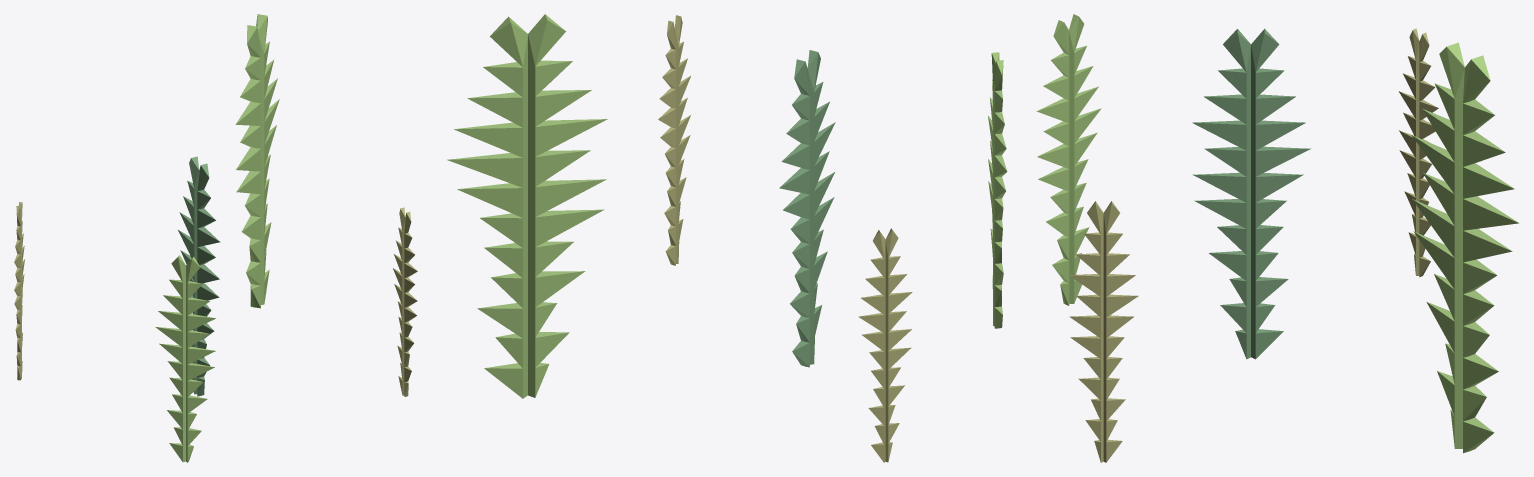
Rendered from SeaWeed.fbx.
3 views of the same model, side by side, from view 1: azimuth 30°, elevation 25°; view 2: azimuth 150°, elevation 25°; view 3: azimuth 270°, elevation 25° (orthographic). The views are drawn at different scales.
Visible parts, largest first — view 1: SeaWeed; view 2: SeaWeed; view 3: SeaWeed.
Boxes of the visible parts, x1,y1,x2,y2 form: SeaWeed: (14, 14, 417, 462); SeaWeed: (447, 14, 1007, 462); SeaWeed: (1036, 14, 1518, 462).
Size of the model in its own units: 4.33 by 3.82 by 4.2.
